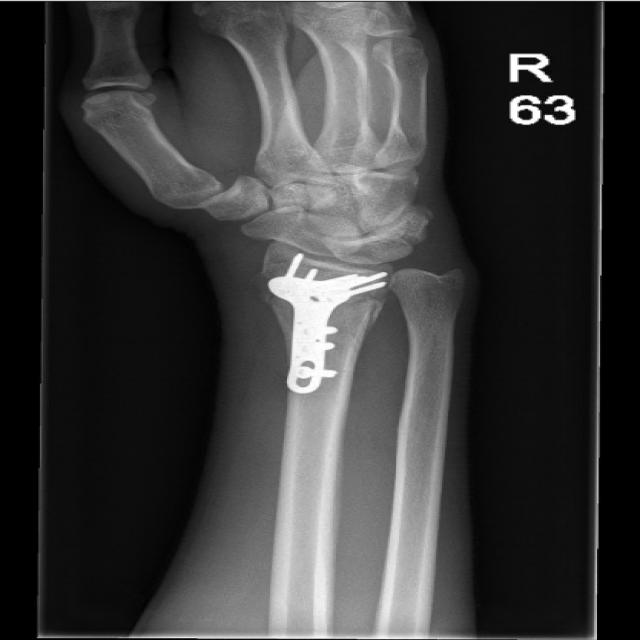x-ray: (258, 243, 405, 399)
